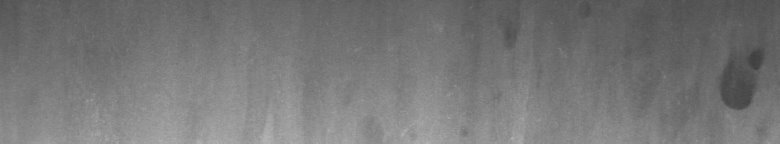fi: (716, 43, 767, 132)
